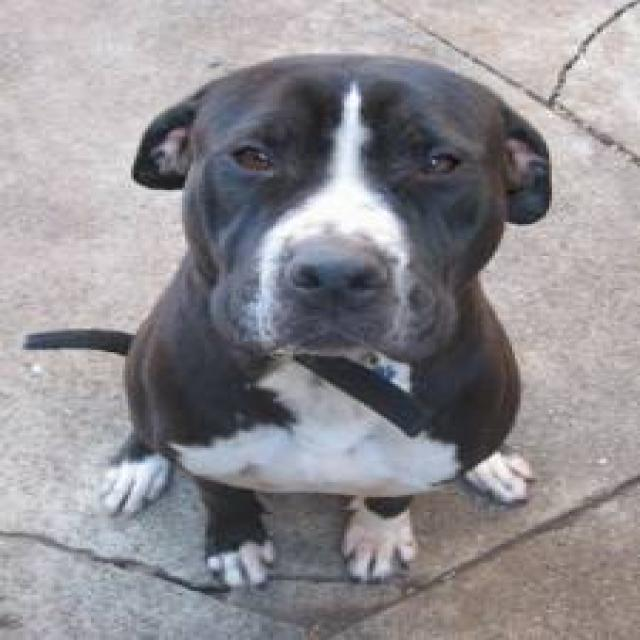dog-american_pit_bull_terrier: (20, 38, 563, 593)
